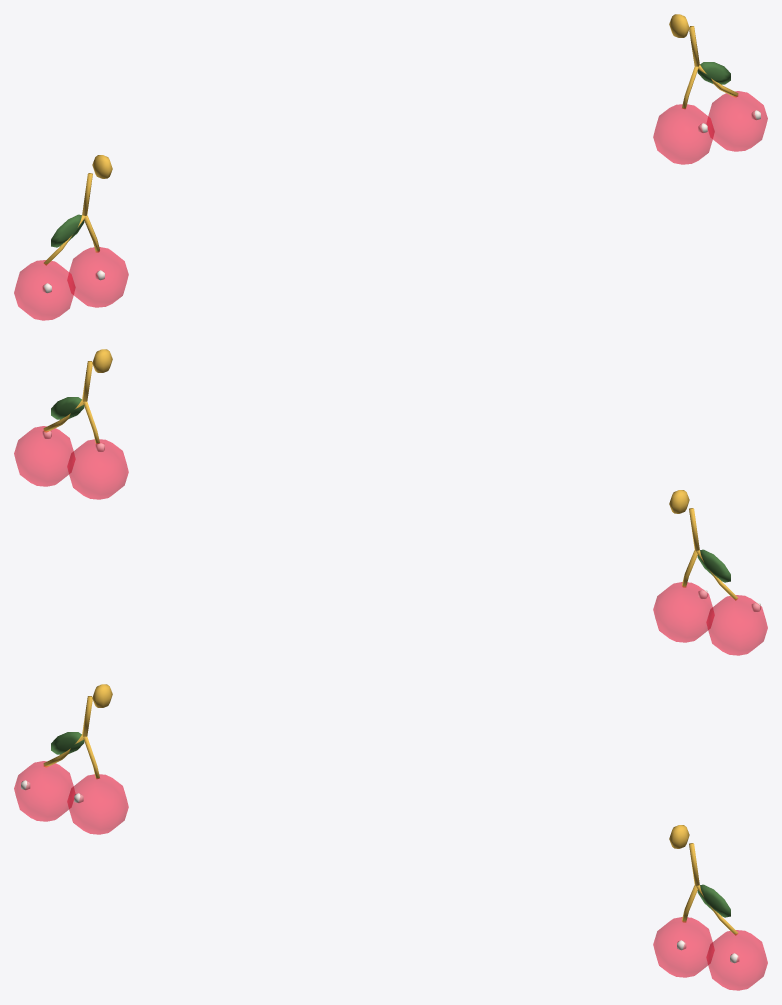
File: cherry_earrings.glb
The picture shows the model from 3 angles, top to bottom: view 1: azimuth 30°, elevation 25°; view 2: azimuth 150°, elevation 25°; view 3: azimuth 330°, elevation 25°; orthographic projection.
Parts seen in each view (by area): view 1: cherry_earrings; view 2: cherry_earrings; view 3: cherry_earrings.
Part boxes in pixels (x1,y1,x2,y2): cherry_earrings: (14,14,767,320); cherry_earrings: (14,349,767,655); cherry_earrings: (14,684,767,990).
Size of the model in its own units: 0.2647 by 0.0505 by 0.0194.
